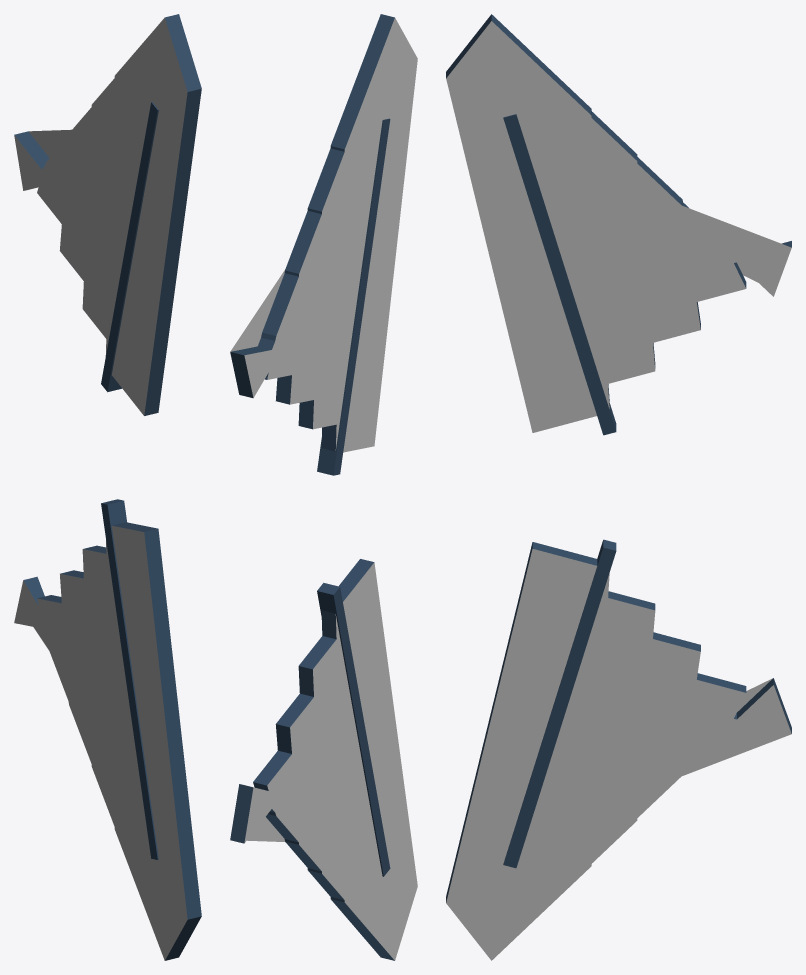
File: SM_MarksmanFoldedFeathers.obj
The picture shows the model from 3 angles, left to right: view 1: azimuth 30°, elevation 25°; view 2: azimuth 150°, elevation 25°; view 3: azimuth 270°, elevation 25°; orthographic projection.
Visible parts, largest first — view 1: SM_MarksmanFoldedFeathers; view 2: SM_MarksmanFoldedFeathers; view 3: SM_MarksmanFoldedFeathers.
Boxes of the visible parts, left/top/right/bottom form: SM_MarksmanFoldedFeathers: left=14, top=14, right=201, bottom=960; SM_MarksmanFoldedFeathers: left=230, top=14, right=417, bottom=960; SM_MarksmanFoldedFeathers: left=446, top=14, right=791, bottom=960.
Bounding box in the file's own units: 4.2 × 228 × 76.
